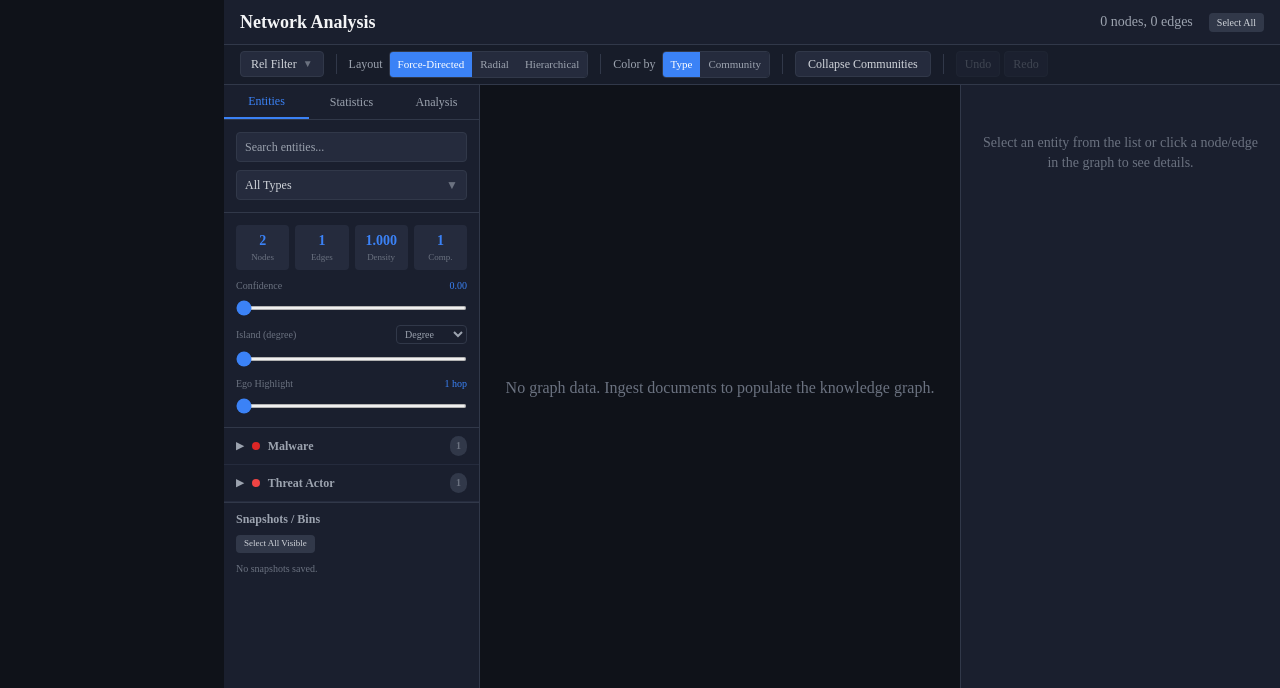
Test: network page › lists entities by type and shows the selected one with its relationships and sources
Click the button "▶ Threat Actor 1": coordinates (352, 484) [224, 465, 479, 502]
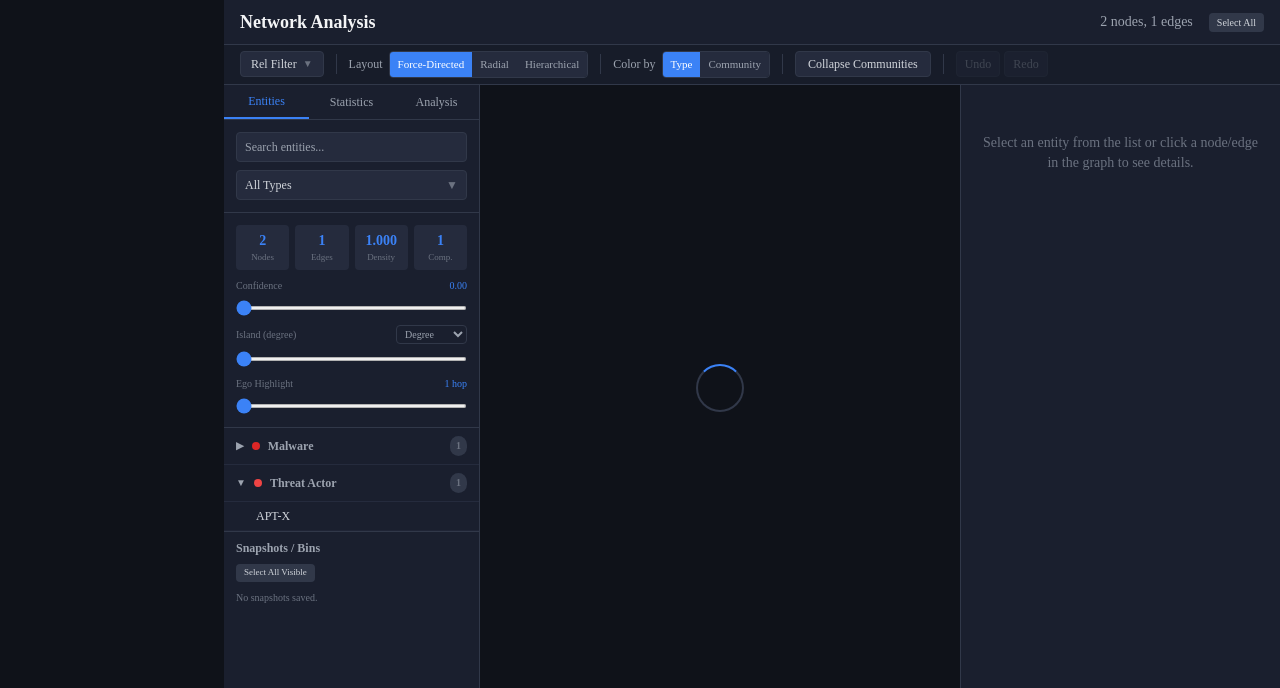
Click the button "APT-X": coordinates (352, 516) [224, 502, 479, 531]
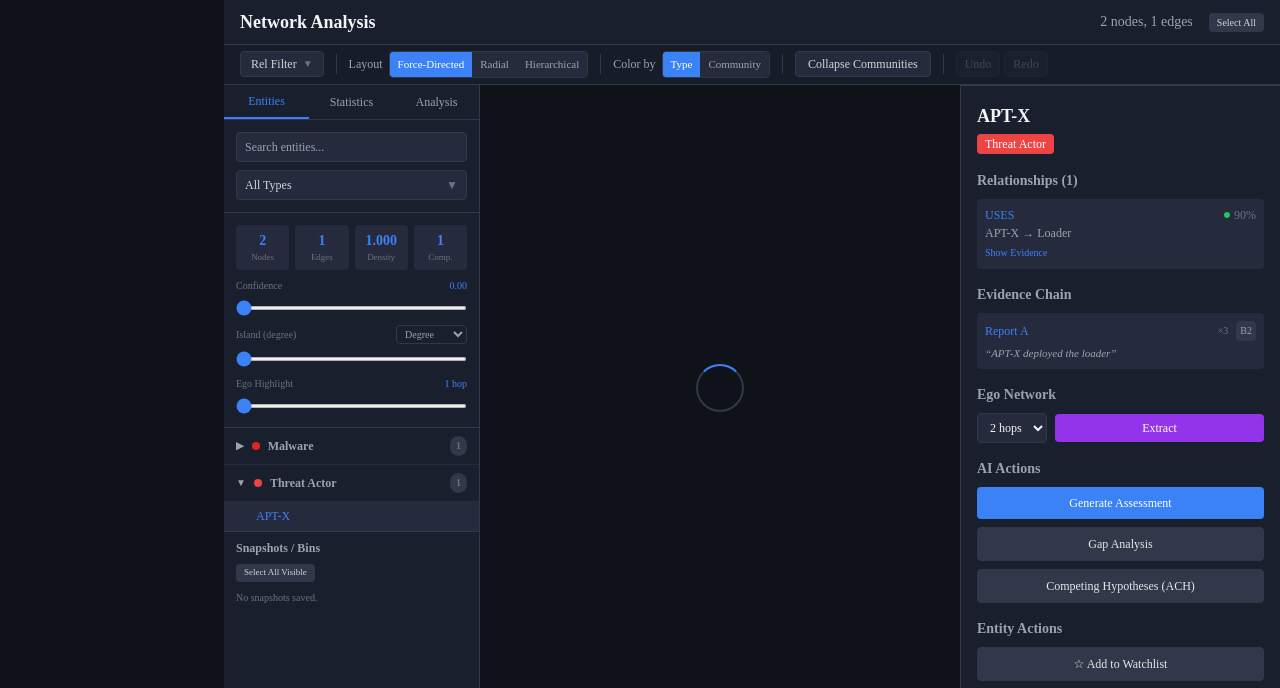
Result: the heading "APT-X" is shown at [977, 106, 1030, 126]
Result: the heading "Relationships (1)" is shown at [977, 172, 1078, 188]
Result: the text "APT-X → Loader" is shown at [985, 226, 1071, 240]
// A relationship's provenance names its source document.
Click the button "Show Evidence": coordinates (1016, 252) [985, 244, 1048, 260]
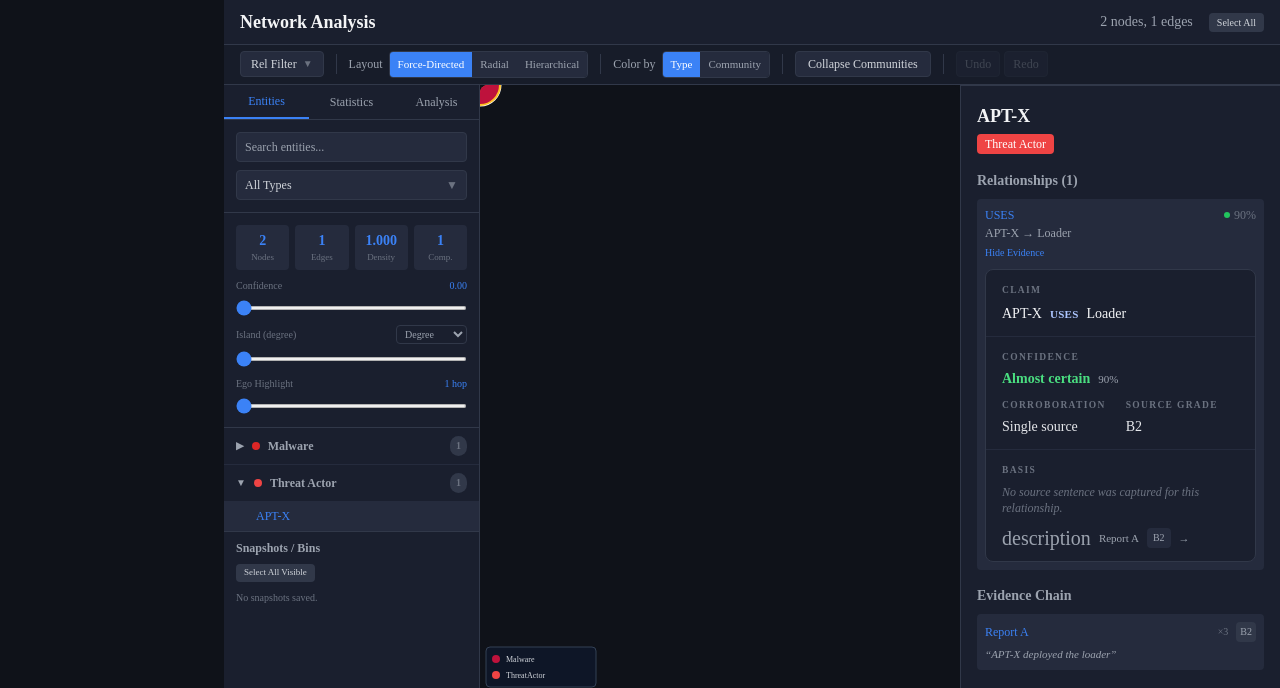
Result: the button "Hide Evidence" is shown at [985, 244, 1044, 260]
